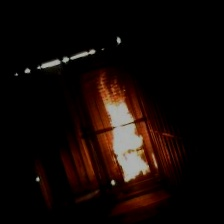fire: (87, 78, 153, 189)
